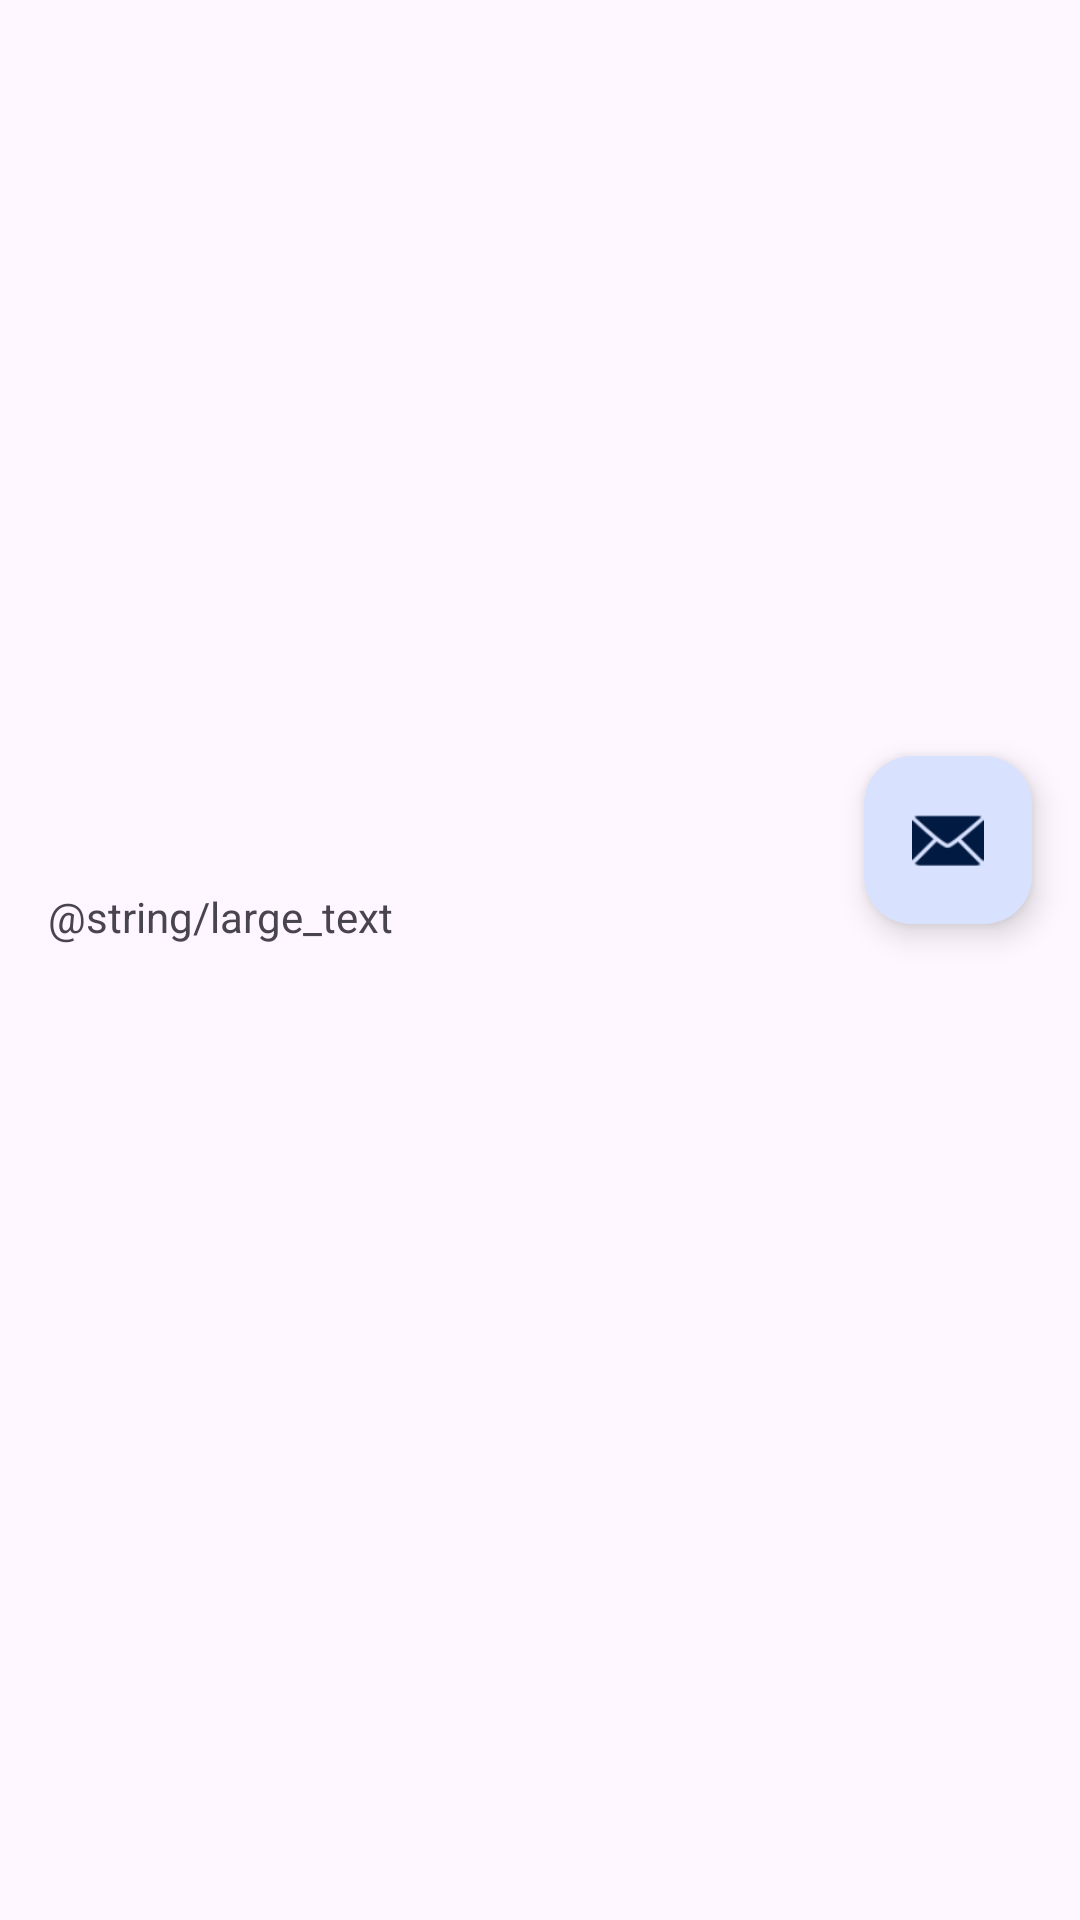

Screen size 1080x1920. Icon name, then its center in pixels as point (x, y):
email: point (948, 840)
